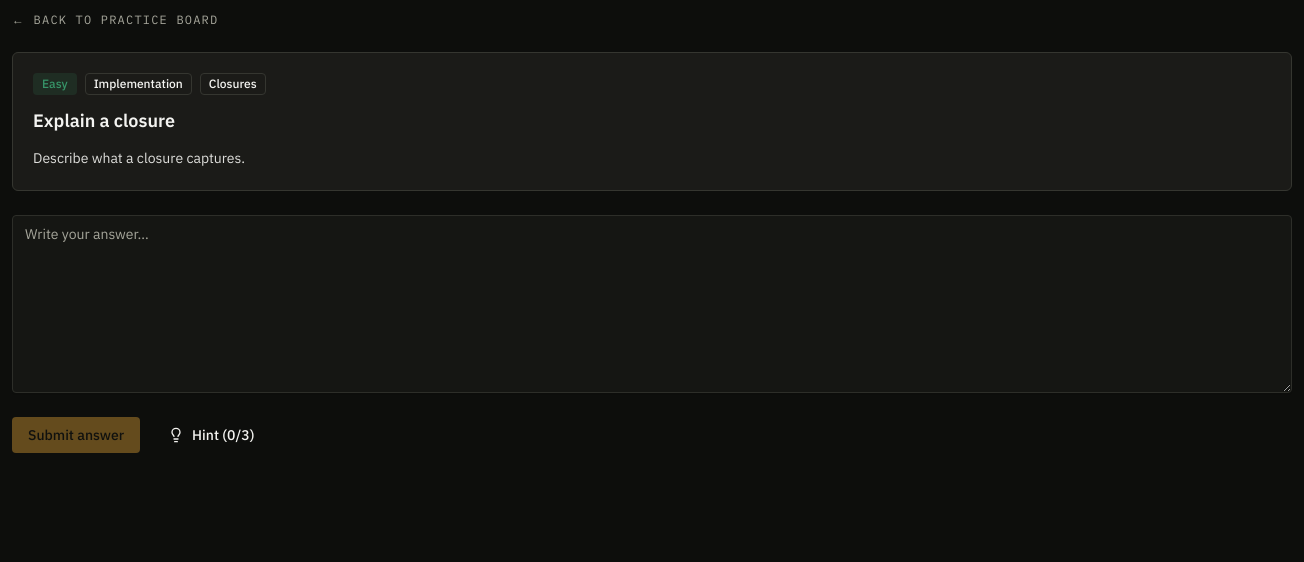
Test: ProblemSolver hints › tells the learner when a hint can't be fetched, and clears the message on the next try
Click the button "Hint (0/3)" at (211, 435), box [152,417,270,453]
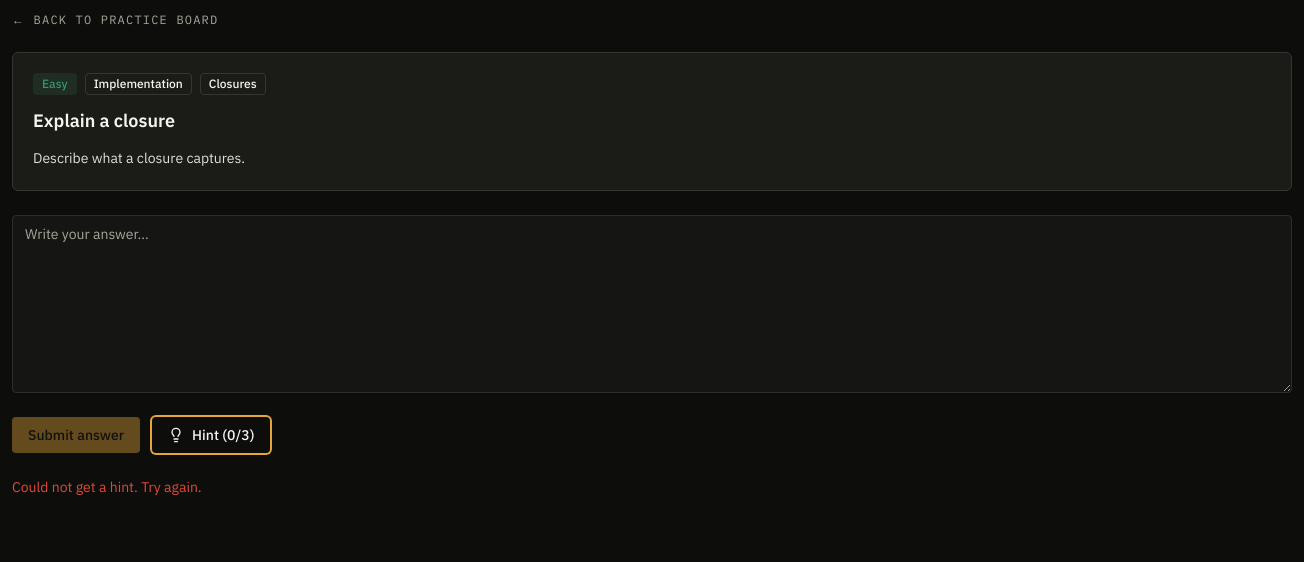
Expected: the text "Could not get a hint. Try again." is shown, [12,478,202,496]
Click the button "Hint (0/3)" at (211, 435), box [152,417,270,453]
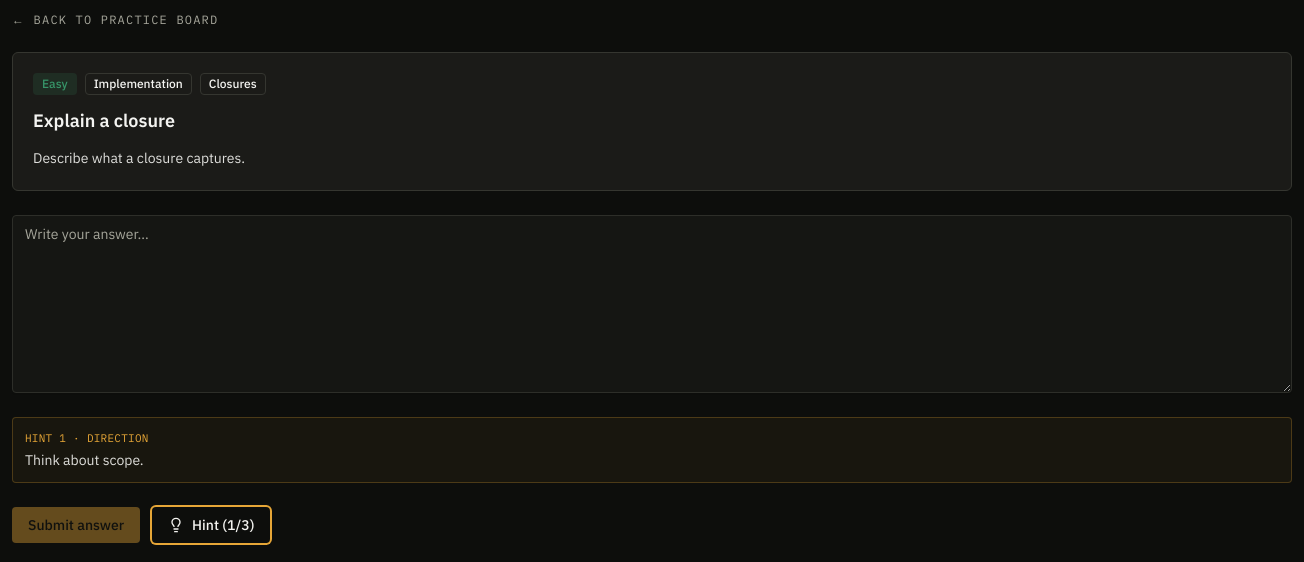
Expected: the text "Think about scope." is shown, [25,451,144,469]
Expected: the text "Could not get a hint. Try again." is gone
